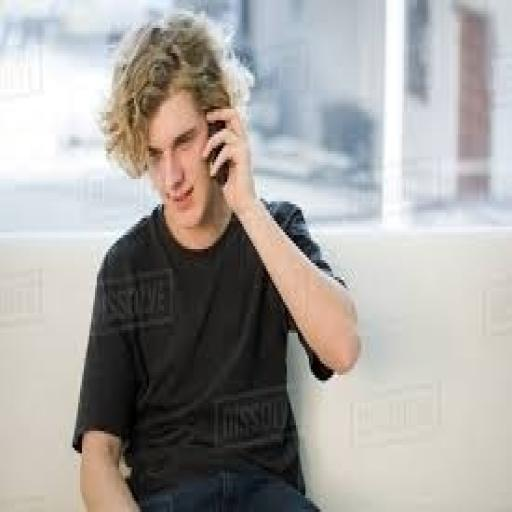texting: (71, 8, 361, 510)
